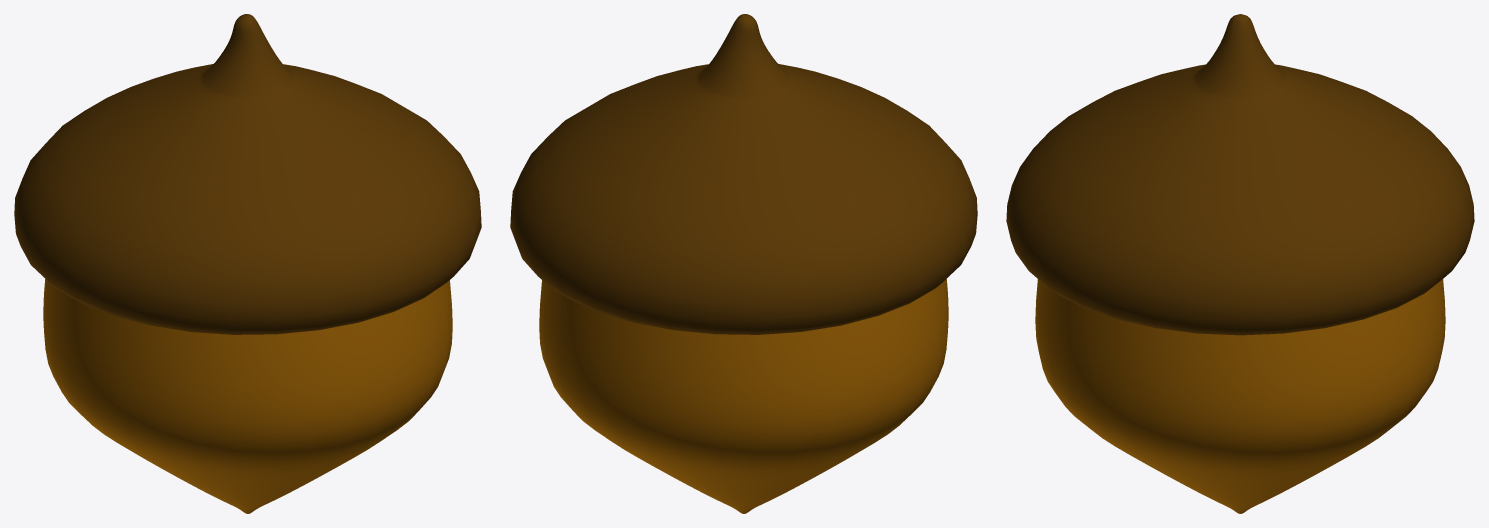
Rendered from Acorn.fbx.
The picture shows the model from 3 angles, left to right: view 1: azimuth 30°, elevation 25°; view 2: azimuth 150°, elevation 25°; view 3: azimuth 270°, elevation 25°; orthographic projection.
Parts seen in each view (by area): view 1: Circle.001; view 2: Circle.001; view 3: Circle.001.
Boxes of the visible parts, left/top/right/bottom form: Circle.001: left=14, top=14, right=481, bottom=513; Circle.001: left=510, top=14, right=977, bottom=513; Circle.001: left=1006, top=14, right=1474, bottom=513.
Bounding box in the file's own units: 1.39 × 1.64 × 1.39.
